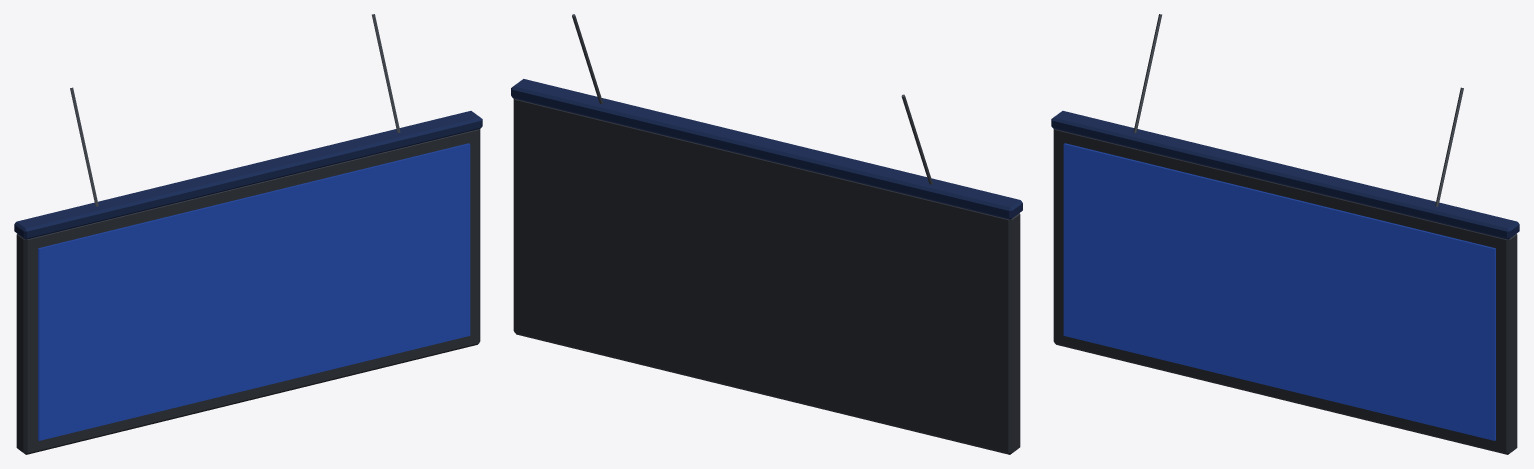
Rendered from HangingScreen_40.glb.
3 views of the same model, side by side, from view 1: azimuth 30°, elevation 25°; view 2: azimuth 150°, elevation 25°; view 3: azimuth 330°, elevation 25° (orthographic). The views are drawn at different scales.
Visible parts, largest first — view 1: HangingScreen_40_Glow_screen, HangingScreen_40; view 2: HangingScreen_40; view 3: HangingScreen_40_Glow_screen, HangingScreen_40.
Boxes of the visible parts, x1=… form: HangingScreen_40_Glow_screen: x1=38, y1=143, x2=470, y2=440; HangingScreen_40: x1=14, y1=14, x2=482, y2=454; HangingScreen_40: x1=511, y1=14, x2=1022, y2=454; HangingScreen_40_Glow_screen: x1=1063, y1=143, x2=1495, y2=440; HangingScreen_40: x1=1051, y1=14, x2=1519, y2=454.
Bounding box in the file's own units: 42.6 × 29.06 × 5.3.
Materials: 2 (1 with a texture image).
